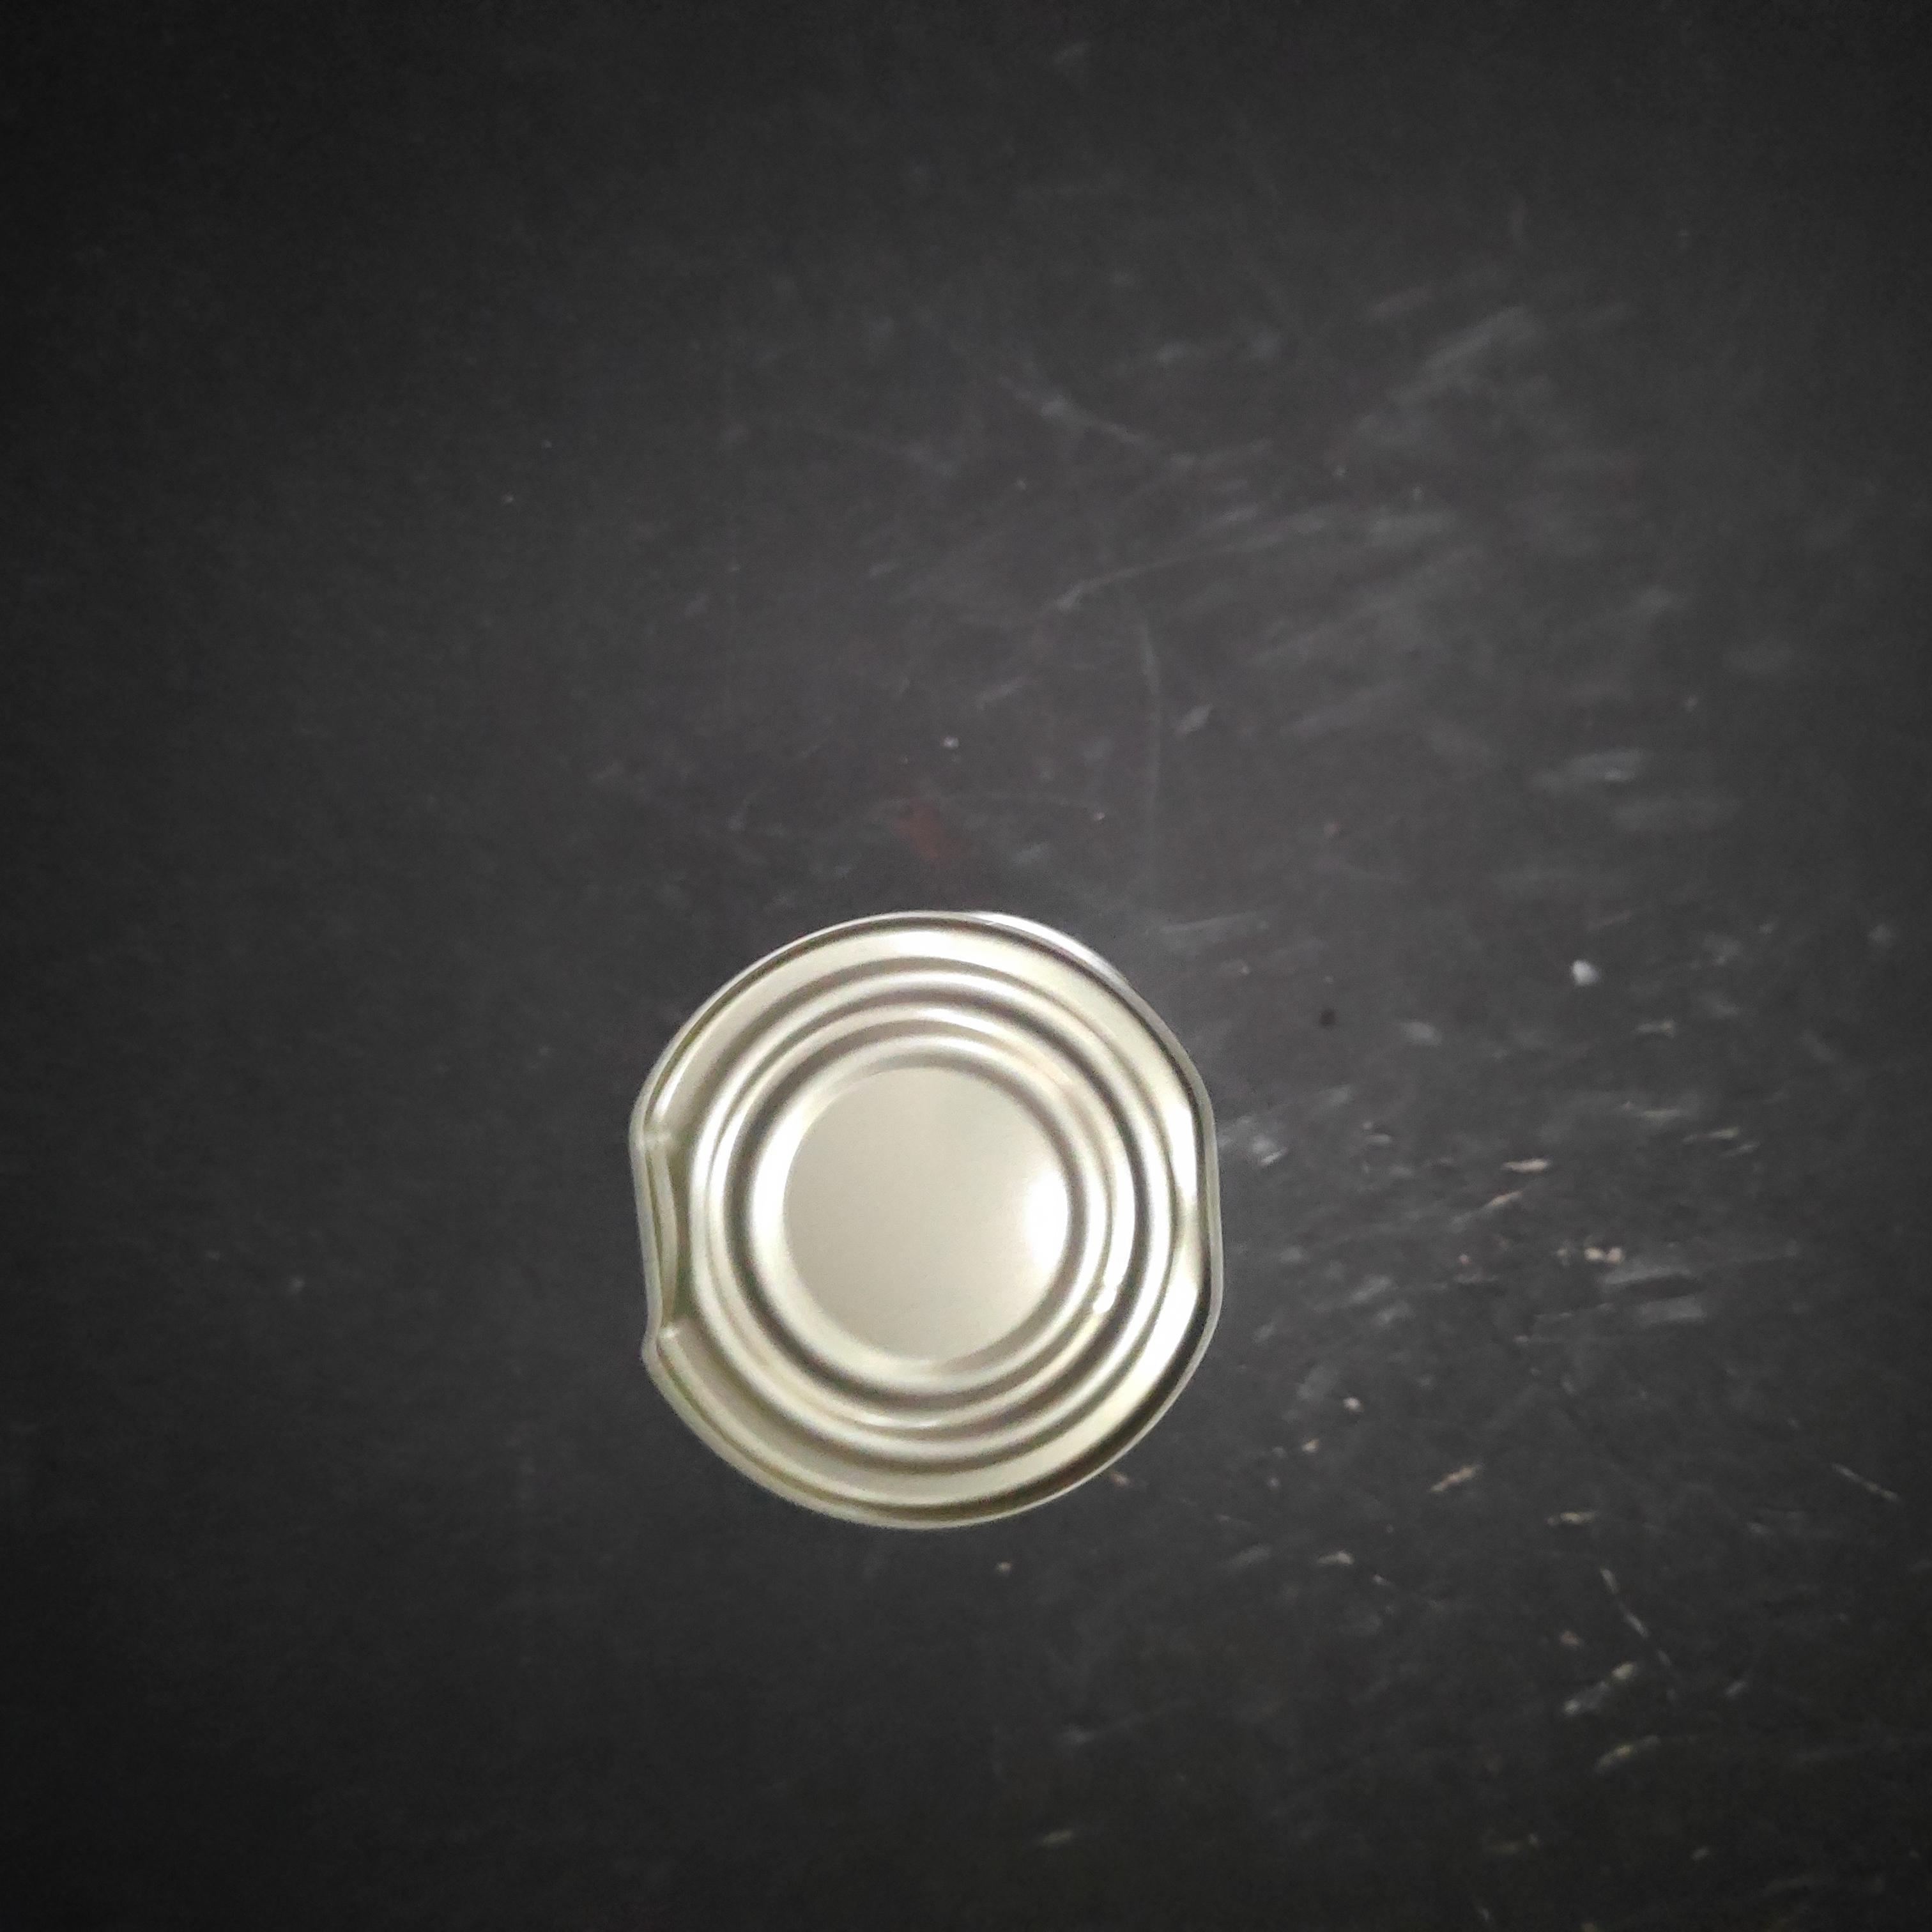Minor Defect: (697, 375, 1325, 1046)
